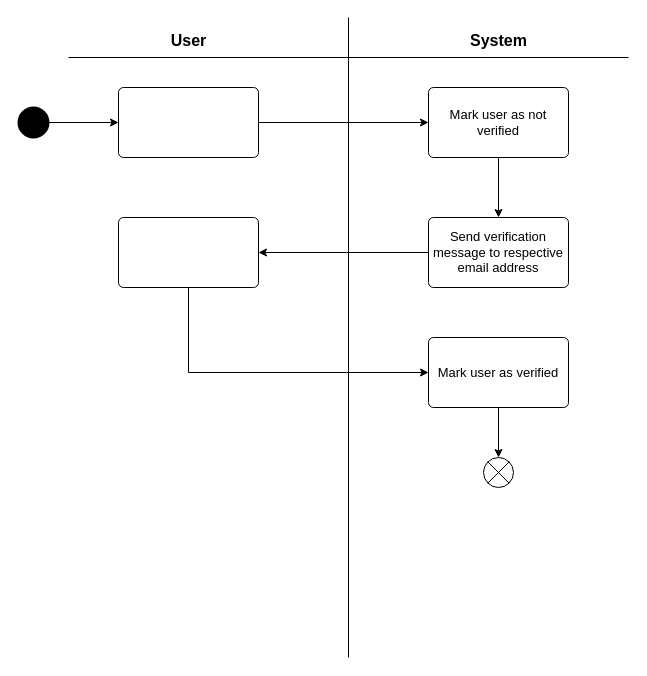
Image size: 647x676. Some labels were removed from this diagram. The box of each missing label's shape, as (x1, y1, x2, y2) in pixels:
Open the link in the message in a browser: (118, 216, 258, 288)
Signup OR Change email address: (118, 86, 258, 158)
